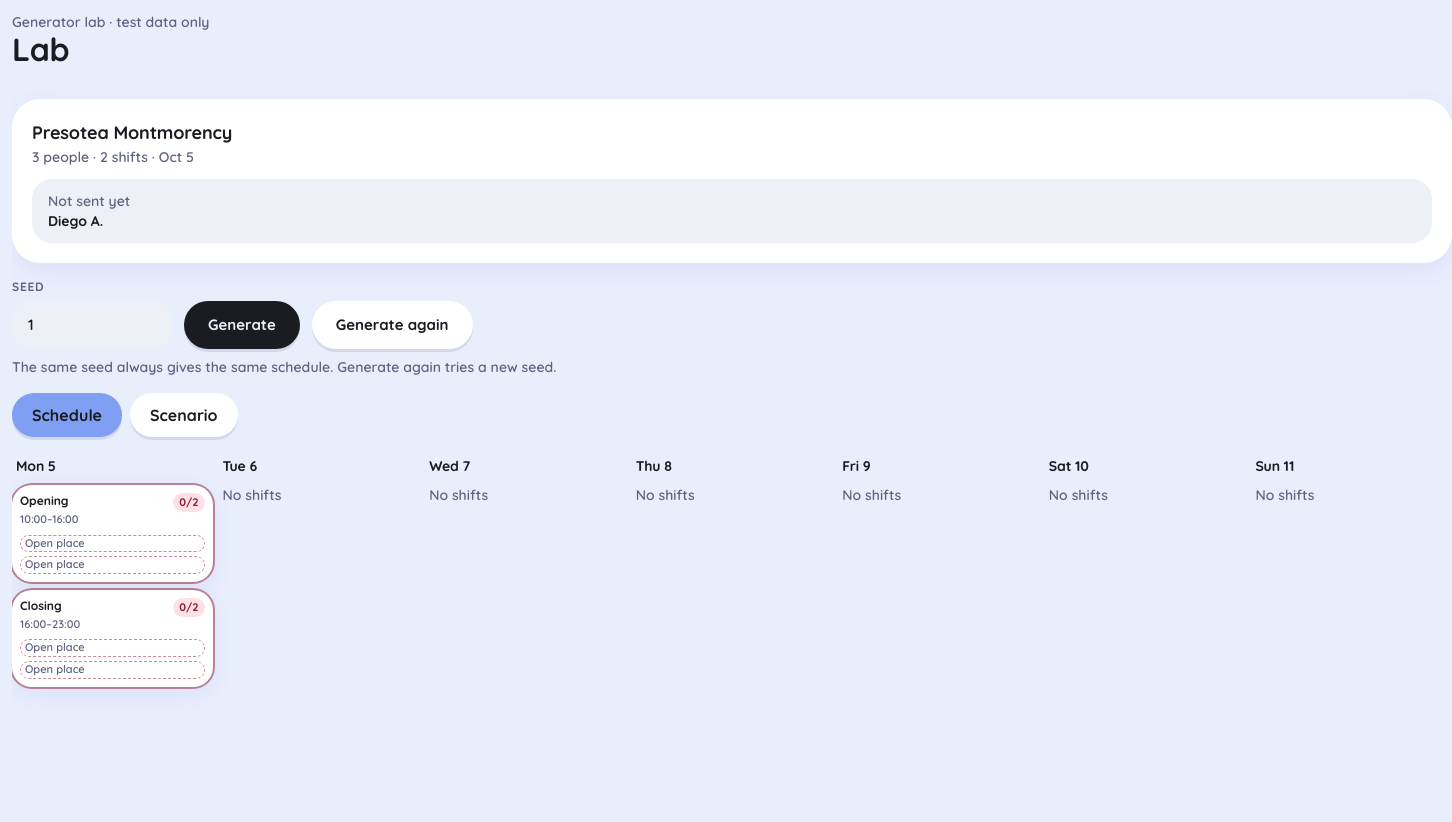
Test case: LabPage › lists the problems the server found, translated, with the person they concern
Click the button "Generate".
click(242, 325)  # box x1=184 y1=301 x2=300 y2=349
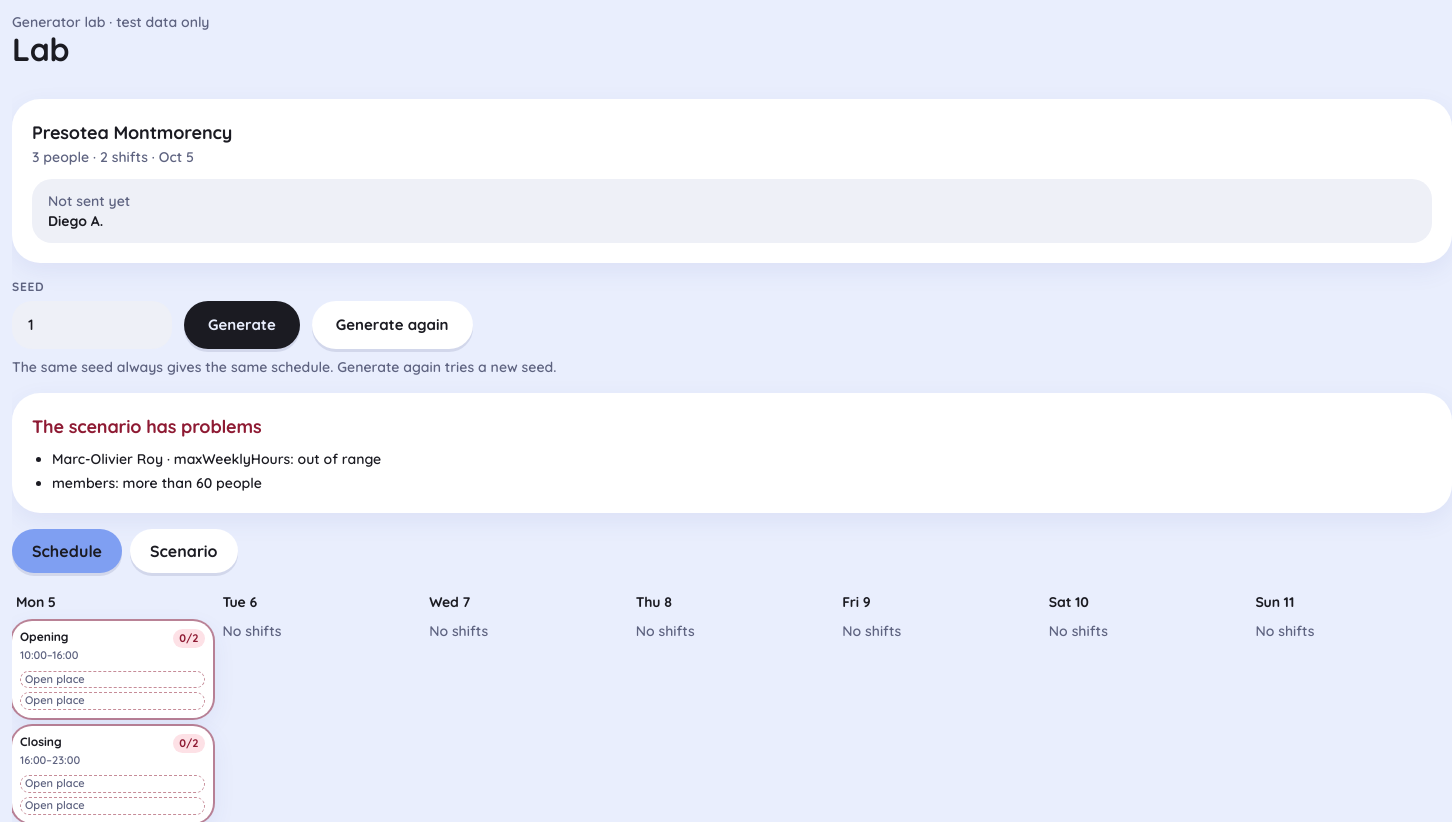
Expected: the list item "Marc-Olivier Roy · maxWeeklyHours: out of range" is shown, x1=52 y1=450 x2=381 y2=468
Expected: the list item "members: more than 60 people" is shown, x1=52 y1=474 x2=262 y2=492
